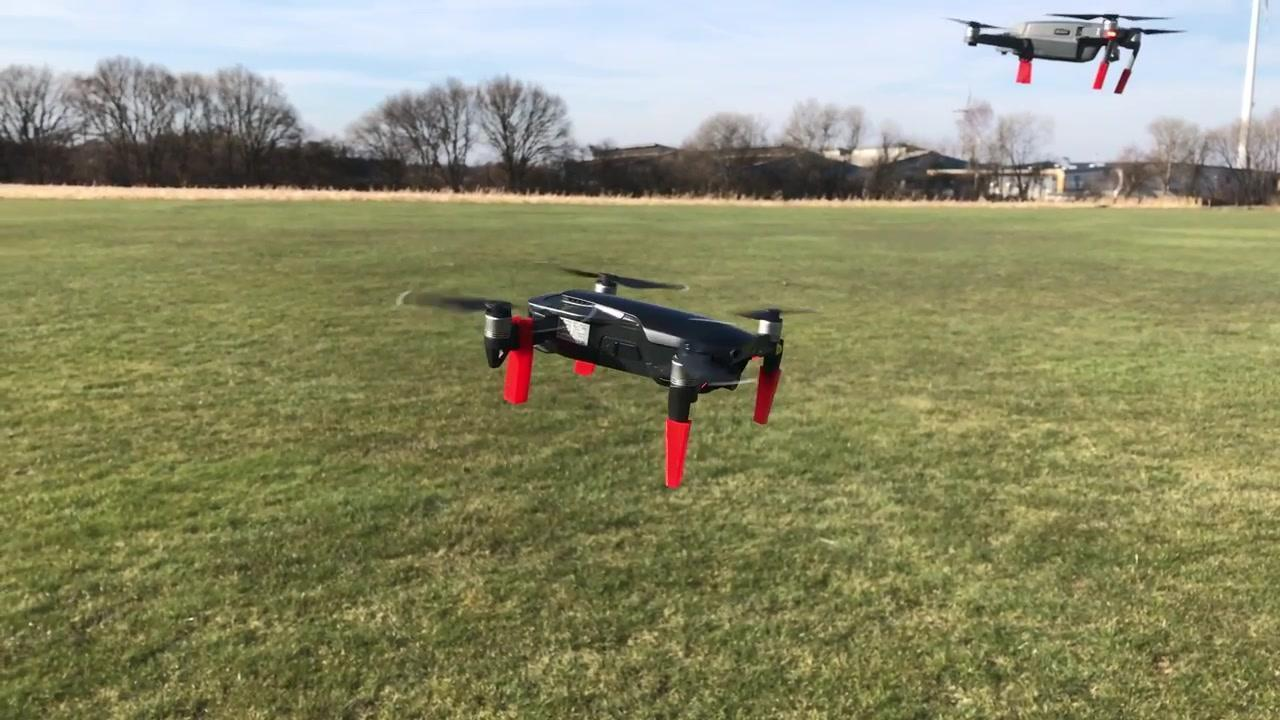UAV: (398, 266, 817, 489), (942, 1, 1188, 96)
